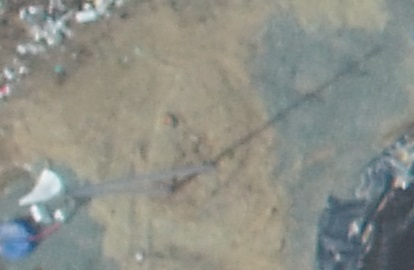opora: (63, 150, 226, 204)
